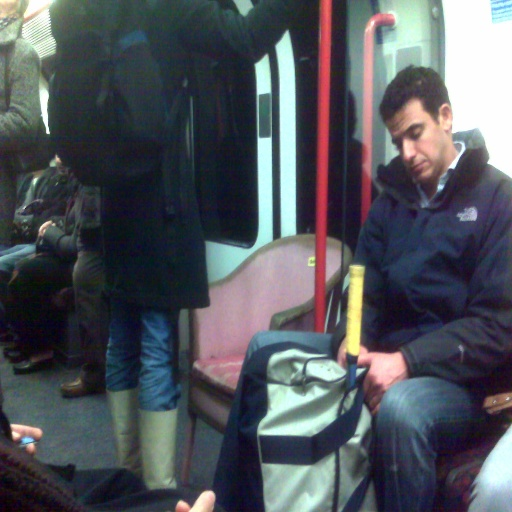hand: (363, 334, 401, 412), (335, 333, 370, 371), (8, 421, 42, 456), (174, 490, 216, 511), (38, 219, 57, 236)
